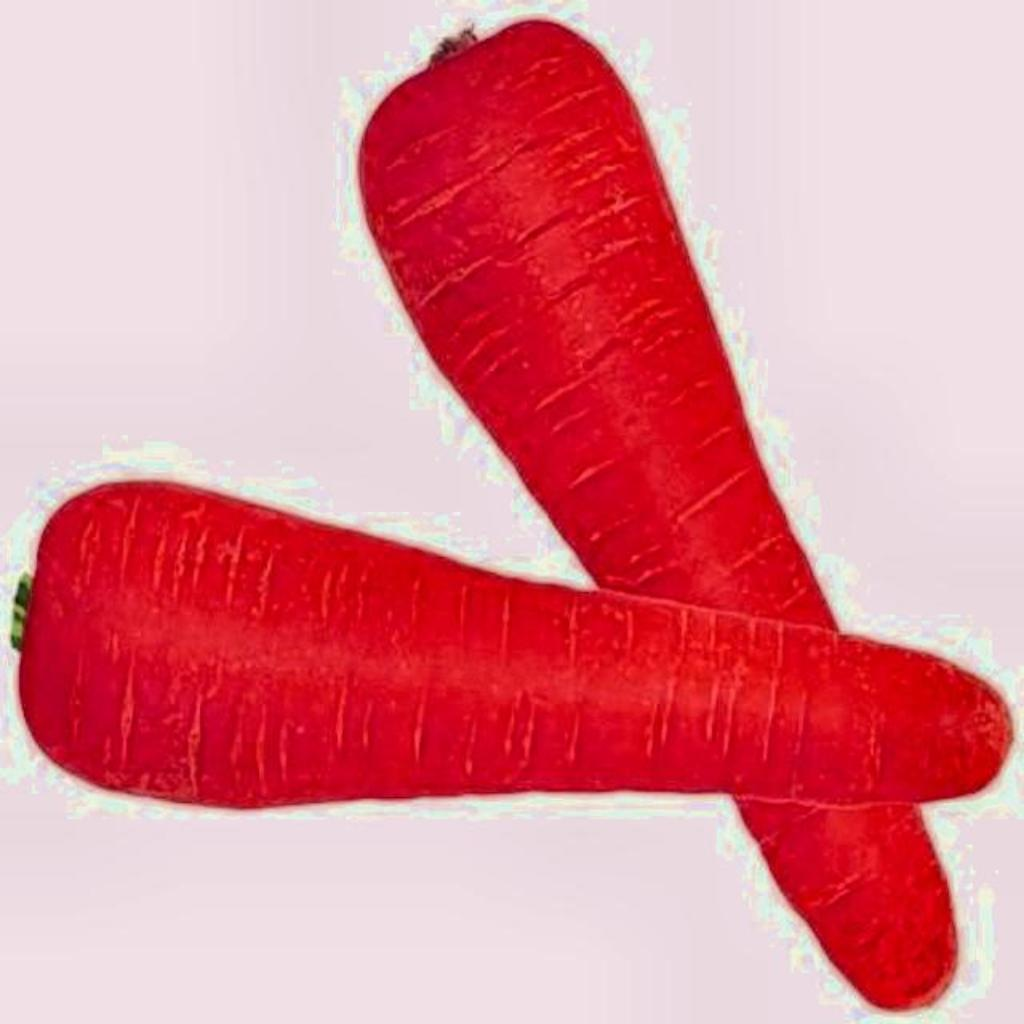carrot: (360, 20, 964, 1019), (20, 482, 1010, 806)
